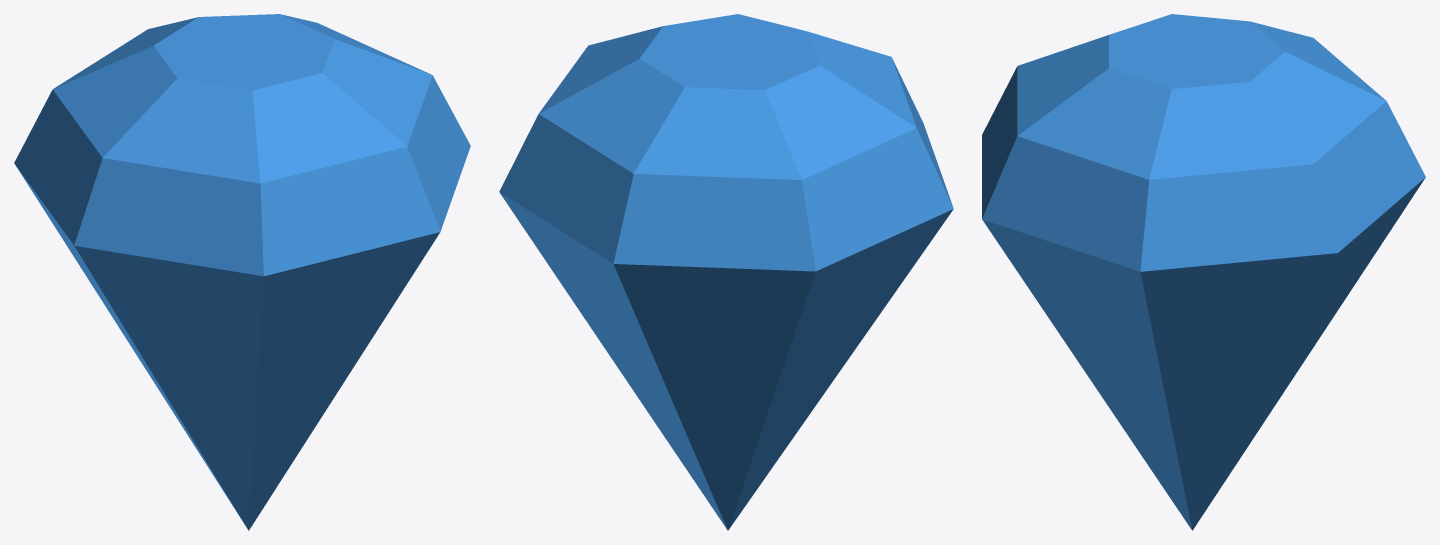
Rendered from Blue.fbx.
3 views of the same model, side by side, from view 1: azimuth 30°, elevation 25°; view 2: azimuth 150°, elevation 25°; view 3: azimuth 270°, elevation 25° (orthographic).
Parts seen in each view (by area): view 1: Cone; view 2: Cone; view 3: Cone.
Boxes of the visible parts, left/top/right/bottom form: Cone: left=14, top=14, right=470, bottom=530; Cone: left=499, top=14, right=953, bottom=530; Cone: left=982, top=14, right=1425, bottom=530.
Size of the model in its own units: 117 by 136 by 114.
